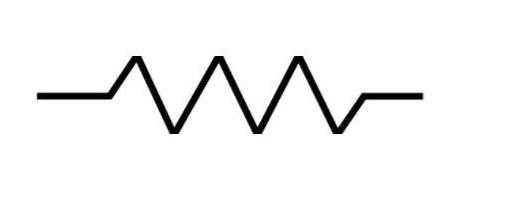resistor: (86, 41, 389, 153)
